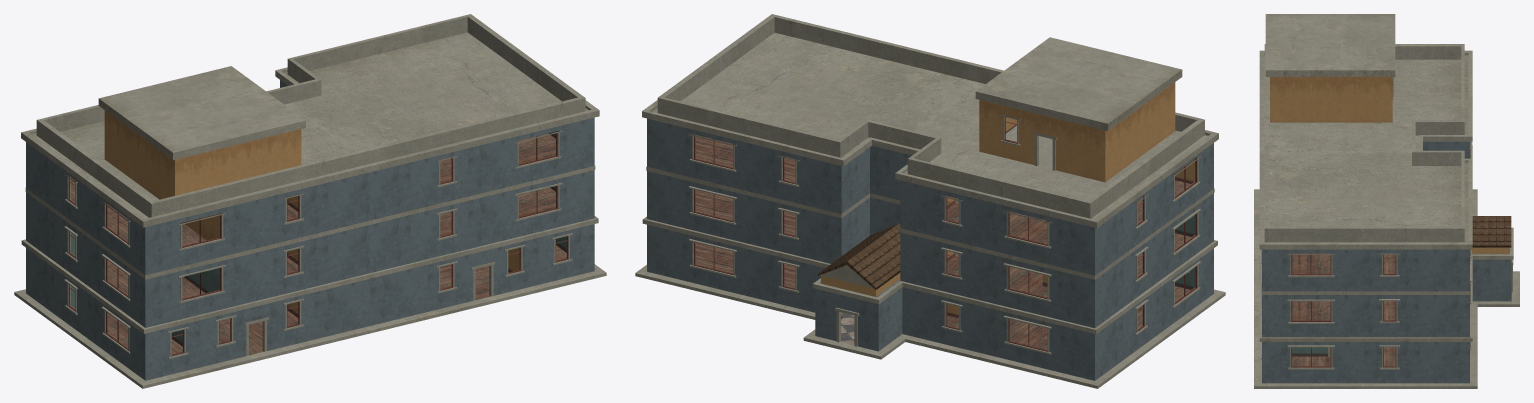
Rendered from BuildingLarge3c012048_lod1.glb.
3 views of the same model, side by side, from view 1: azimuth 30°, elevation 25°; view 2: azimuth 150°, elevation 25°; view 3: azimuth 270°, elevation 25° (orthographic). The views are drawn at different scales.
Parts seen in each view (by area): view 1: xiutz_large_3c_01_2_lod1; view 2: xiutz_large_3c_01_2_lod1; view 3: xiutz_large_3c_01_2_lod1.
Boxes of the visible parts, x1=… form: xiutz_large_3c_01_2_lod1: x1=14, y1=14, x2=606, y2=388; xiutz_large_3c_01_2_lod1: x1=635, y1=14, x2=1225, y2=388; xiutz_large_3c_01_2_lod1: x1=1254, y1=14, x2=1519, y2=388.
Size of the model in its own units: 45.07 by 20.63 by 25.67.
Materials: 1 (1 with a texture image).
